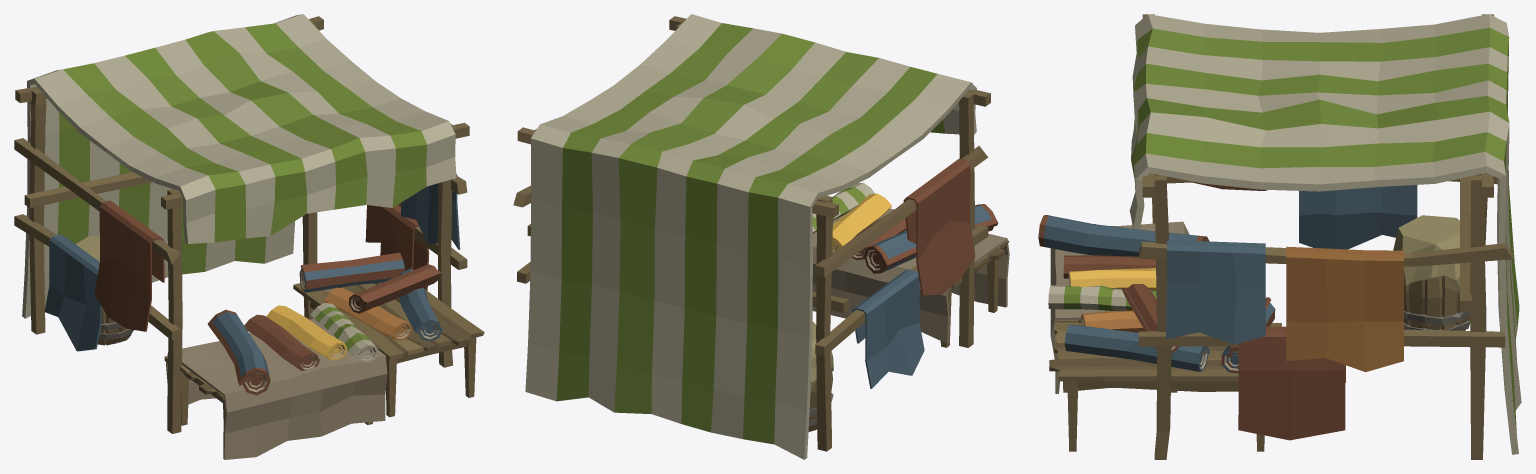
The model's file is Market_4.fbx.
The picture shows the model from 3 angles, left to right: view 1: azimuth 30°, elevation 25°; view 2: azimuth 150°, elevation 25°; view 3: azimuth 270°, elevation 25°; orthographic projection. The views are drawn at different scales.
Parts seen in each view (by area): view 1: Market_4; view 2: Market_4; view 3: Market_4.
Part boxes in pixels (x1,y1,x2,y2): Market_4: [14, 14, 484, 459]; Market_4: [513, 14, 1009, 459]; Market_4: [1038, 14, 1521, 459].
Bounding box in the file's own units: 366 × 282 × 417.
